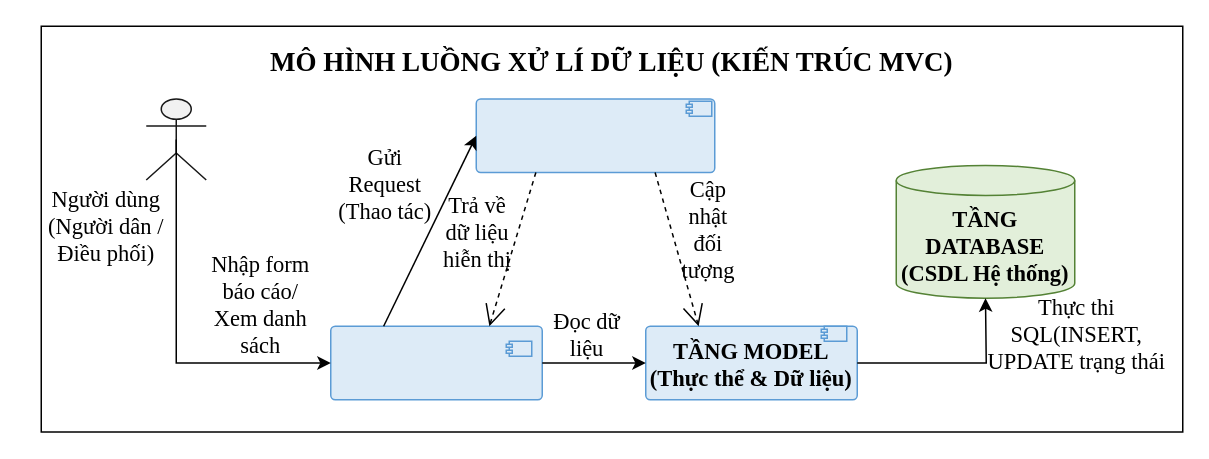
The diagram is 1209 pixels wide and 459 high, and some of its shapes have lost their labels. Each missing label, with the centre of its shape:
"TẦNG CONTROLLER (Xử lý Logic Sự cố)" belongs at pixel 595 135.
"TẦNG VIEW (Giao diện Web/App)" belongs at pixel 435 362.
